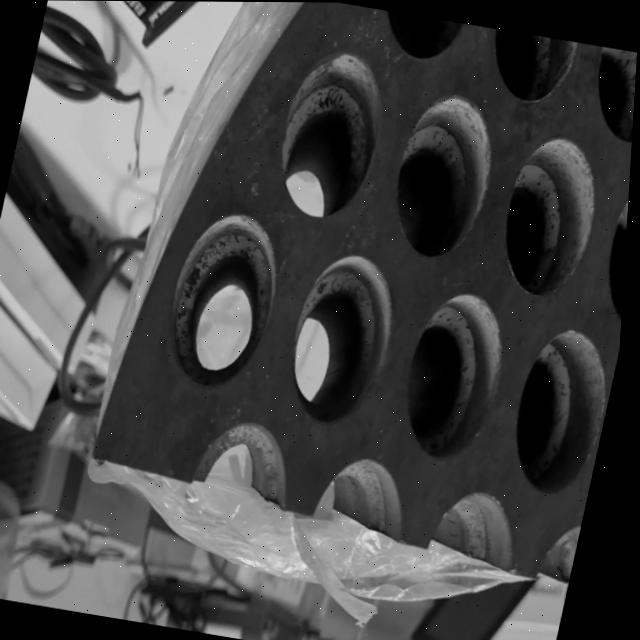Hole: (157, 204, 294, 397), (281, 246, 410, 431), (268, 44, 395, 224), (395, 284, 521, 465), (382, 88, 507, 264), (505, 323, 625, 498), (494, 130, 612, 302), (479, 27, 579, 110), (583, 44, 638, 148), (597, 168, 632, 331), (370, 8, 467, 66)
